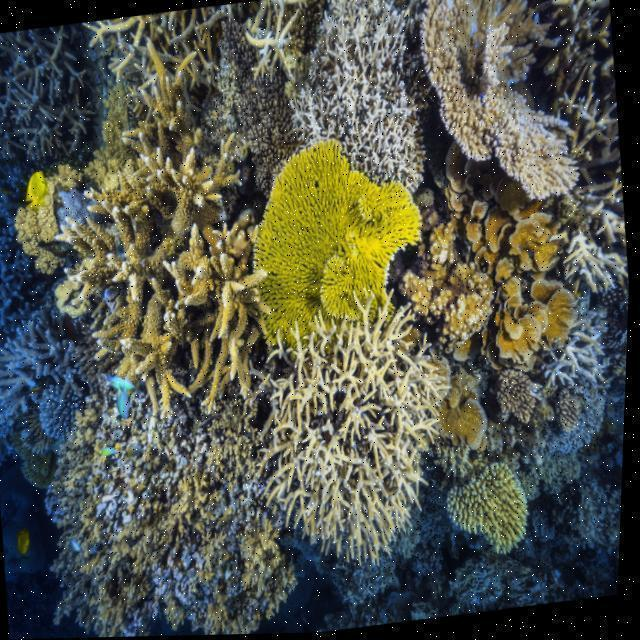Bleached Coral: (289, 0, 429, 204)
Healthy Coral: (61, 49, 266, 413), (251, 303, 468, 584), (405, 0, 595, 219), (244, 141, 421, 337), (472, 196, 585, 367), (391, 213, 506, 370), (445, 476, 538, 552), (485, 353, 545, 439)
